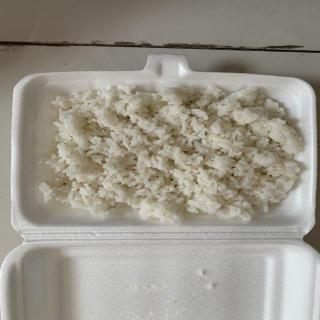Nasi: (44, 91, 305, 223)
